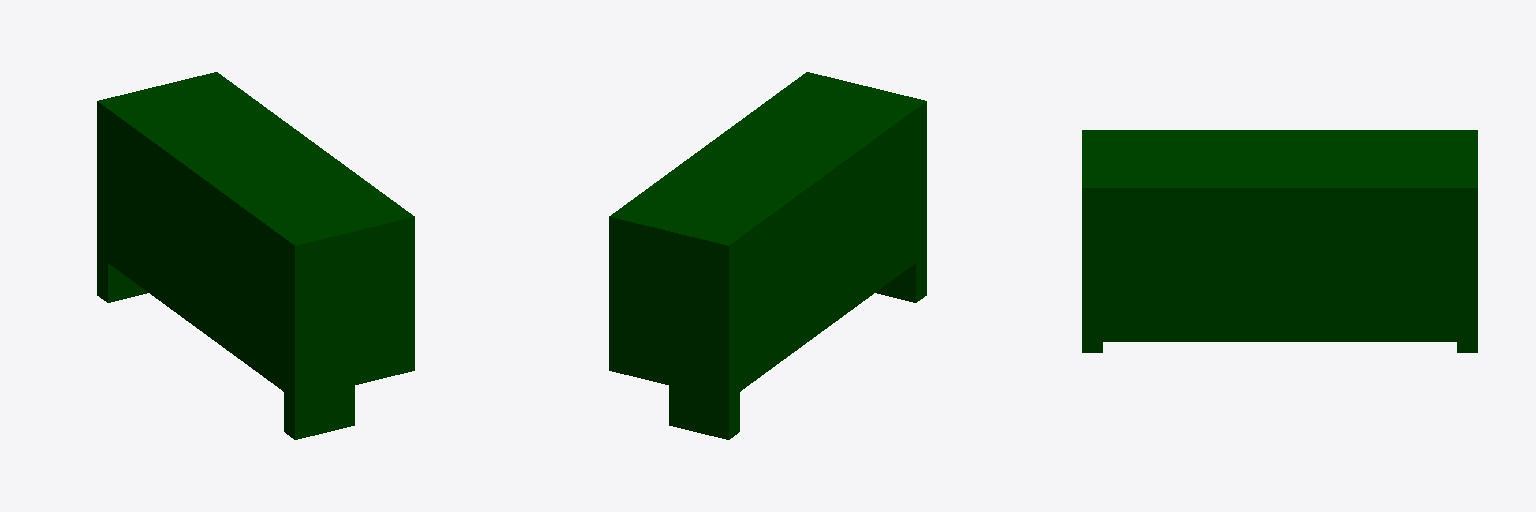
Rendered from car.obj.
3 renders of one model, left to right at view 1: azimuth 30°, elevation 25°; view 2: azimuth 150°, elevation 25°; view 3: azimuth 270°, elevation 25°, orthographic.
Parts seen in each view (by area): view 1: Car; view 2: Car; view 3: Car.
Part boxes in pixels (bbox=[...]): Car: bbox=[97, 72, 414, 439]; Car: bbox=[609, 72, 926, 439]; Car: bbox=[1082, 130, 1477, 352].
Size of the model in its own units: 0.699 by 1.08 by 2.